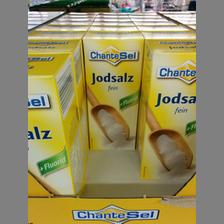Gewuerze: (136, 33, 196, 178), (27, 53, 81, 196), (82, 27, 142, 151)
